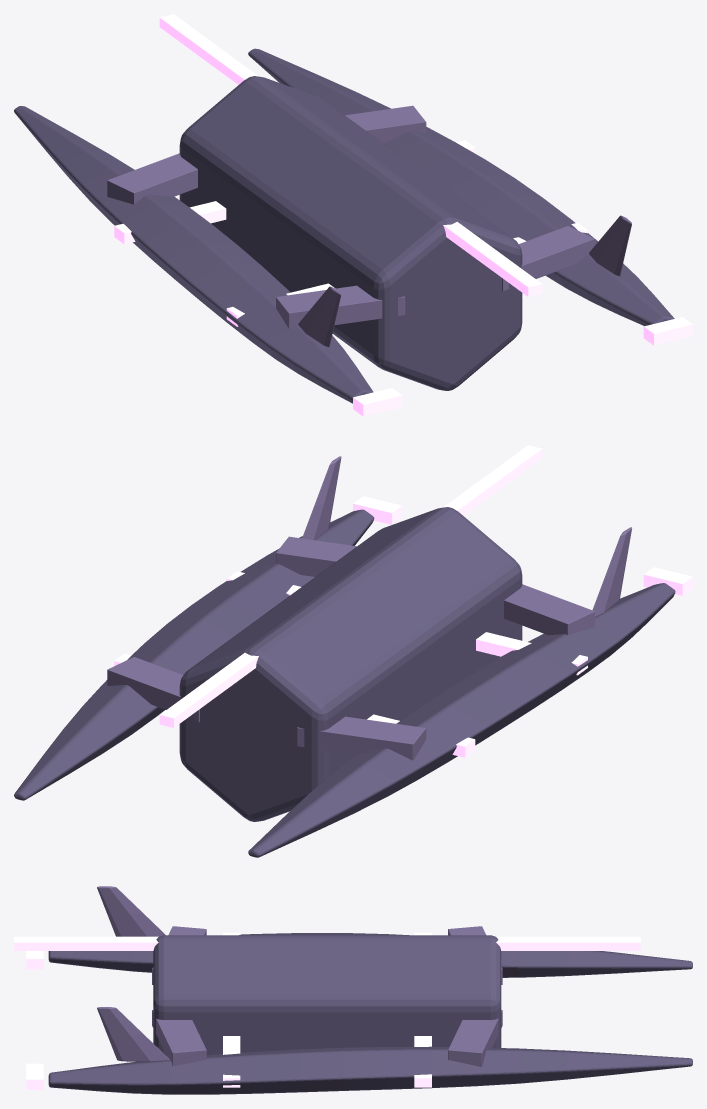
Rendered from illumaria-freighter.glb.
3 views of the same model, one above another, from view 1: azimuth 30°, elevation 25°; view 2: azimuth 150°, elevation 25°; view 3: azimuth 270°, elevation 25° (orthographic). The views are drawn at different scales.
Visible parts, largest first — view 1: Cylinder, cat, cat.001, Cube.002, Cube.003, Cube.006, Cube.005, Cube.004, fin, fin.001, Cube.008, Cube.007 (+1 smaller); view 2: Cylinder, cat, cat.001, Cube.002, Cube.003, Cube.005, Cube.004, Cube.006, fin, fin.001, Cube.001, Cube.008 (+1 smaller); view 3: Cylinder, cat.001, cat, Cube.002, fin.001, Cube.006, fin, Cube.004, Cube.001, Cube, Cube.008, Cube.005 (+2 smaller).
Part boxes in pixels (<box>): Cylinder: <box>179,76,522,390</box>; cat: <box>14,106,373,403</box>; cat.001: <box>248,48,674,326</box>; Cube.002: <box>159,14,542,296</box>; Cube.003: <box>107,153,197,204</box>; Cube.006: <box>502,226,594,291</box>; Cube.005: <box>276,285,405,328</box>; Cube.004: <box>345,105,426,143</box>; fin: <box>298,286,341,347</box>; fin.001: <box>589,215,631,276</box>; Cube.008: <box>643,317,692,345</box>; Cube.007: <box>353,388,402,416</box>; Cylinder: <box>179,507,522,821</box>; cat: <box>248,583,675,857</box>; cat.001: <box>14,509,374,800</box>; Cube.002: <box>159,445,542,727</box>; Cube.003: <box>297,716,426,760</box>; Cube.005: <box>504,584,594,635</box>; Cube.004: <box>107,657,199,722</box>; Cube.006: <box>276,536,356,576</box>; fin: <box>592,527,631,617</box>; fin.001: <box>302,456,341,540</box>; Cube.001: <box>226,571,587,675</box>; Cube.008: <box>353,496,402,524</box>; Cylinder: <box>153,935,501,1055</box>; cat.001: <box>48,1046,692,1094</box>; cat: <box>48,933,692,977</box>; Cube.002: <box>14,936,640,950</box>; fin.001: <box>97,1007,169,1061</box>; Cube.006: <box>152,1010,206,1066</box>; fin: <box>97,886,165,936</box>; Cube.004: <box>448,1010,502,1066</box>; Cube.001: <box>223,932,240,1087</box>; Cube: <box>414,932,431,1087</box>; Cube.008: <box>26,1063,43,1089</box>; Cube.005: <box>152,926,206,984</box>.
Bounding box in the file's own units: 2 × 0.9253 × 3.9.
